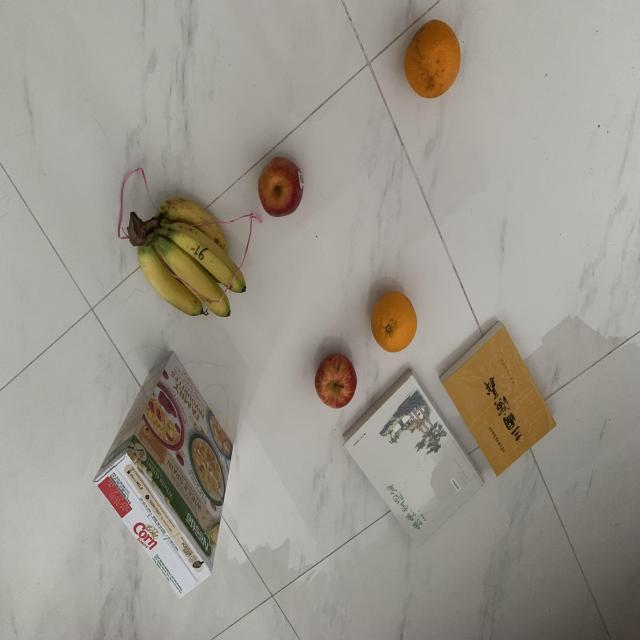Apple: (253, 155, 309, 220), (312, 349, 361, 411)
Banana: (124, 182, 248, 321), (401, 14, 466, 101), (366, 289, 420, 356)
Book: (340, 367, 490, 553), (437, 318, 558, 478)
Cerealbox: (89, 335, 237, 610)
